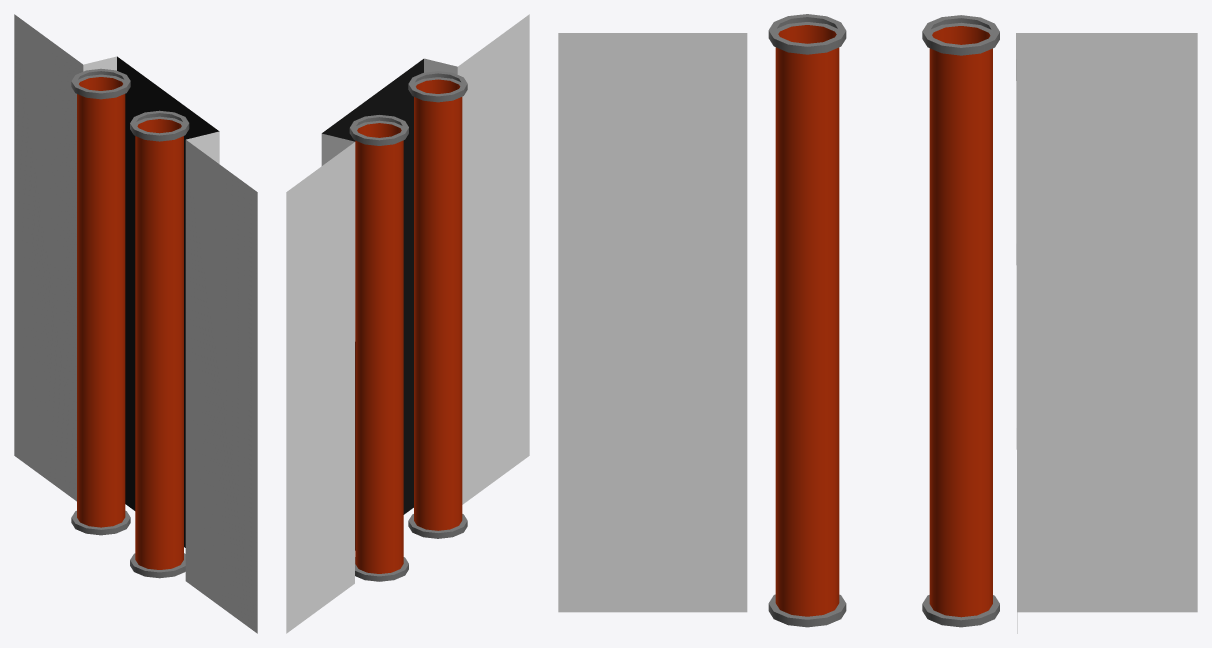
Rendered from S_assete_basement_wall_midel_5.fbx.
3 views of the same model, side by side, from view 1: azimuth 30°, elevation 25°; view 2: azimuth 150°, elevation 25°; view 3: azimuth 270°, elevation 25° (orthographic). The views are drawn at different scales.
Visible parts, largest first — view 1: Plane002; view 2: Plane002; view 3: Plane002.
Part boxes in pixels (x1,y1,x2,y2): Plane002: (14,14,257,633); Plane002: (286,14,529,633); Plane002: (558,14,1197,633).
Size of the model in its own units: 29.69 by 201 by 200.
